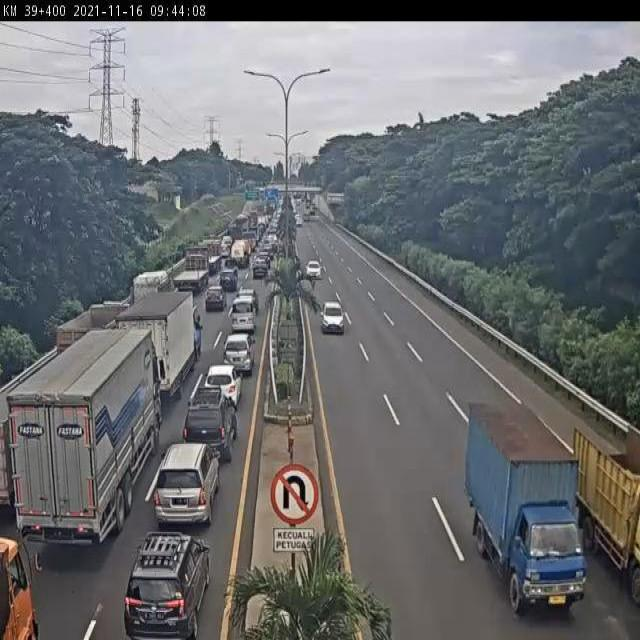car: (117, 533, 220, 640), (148, 439, 224, 529), (175, 391, 243, 453), (218, 325, 251, 388), (208, 357, 242, 415), (318, 293, 357, 343), (228, 299, 260, 333), (220, 264, 240, 297), (206, 283, 227, 309), (305, 259, 325, 281)
truck-l-: (1, 325, 157, 547)
truck-m-: (468, 398, 590, 622), (118, 284, 198, 395), (131, 269, 166, 307)
